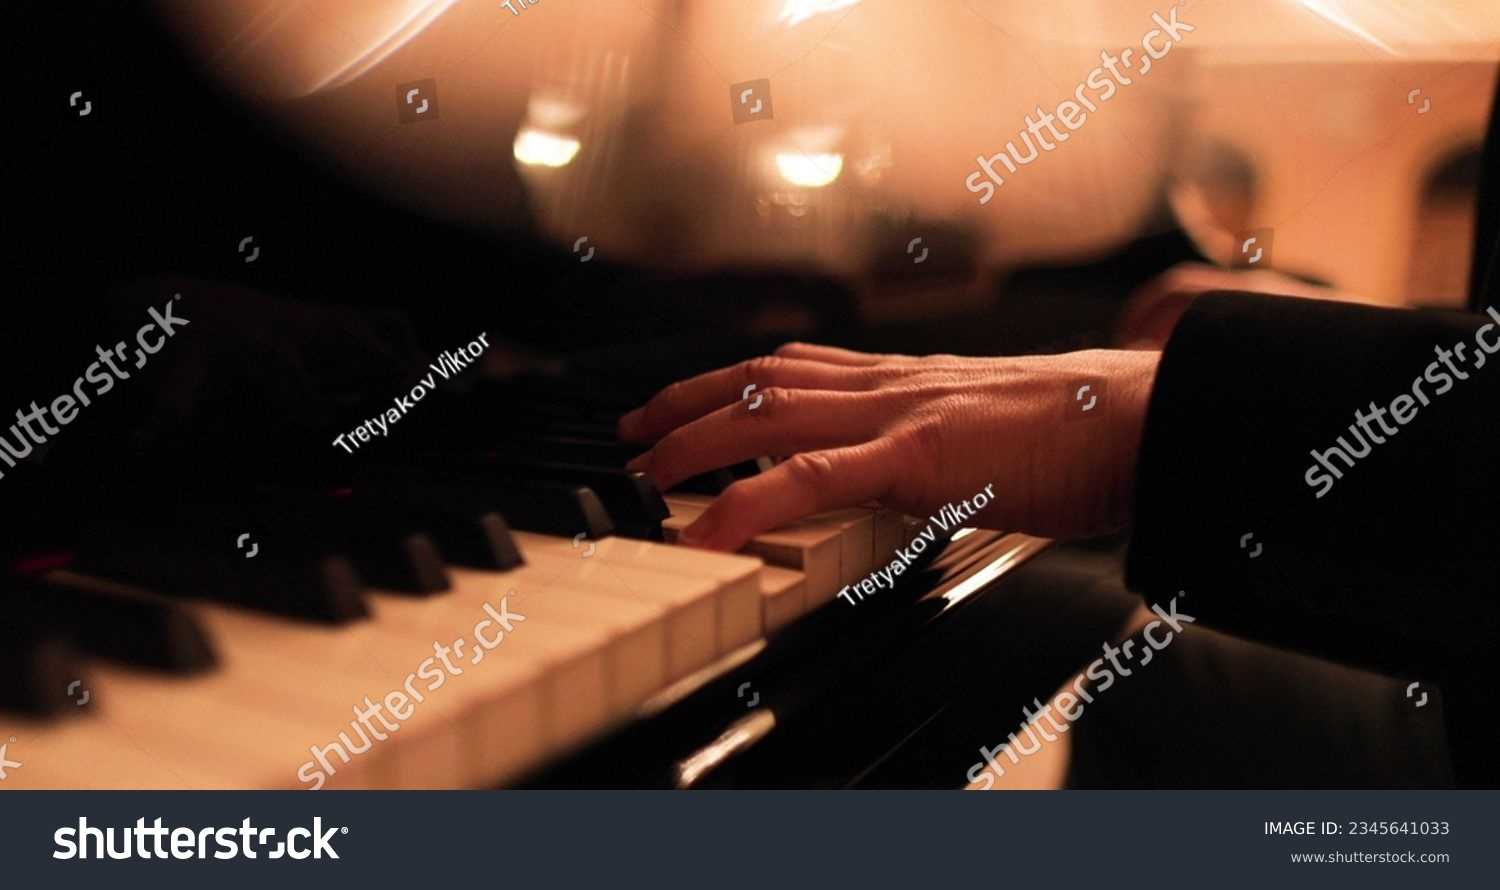Piano: (1, 158, 1359, 838)
